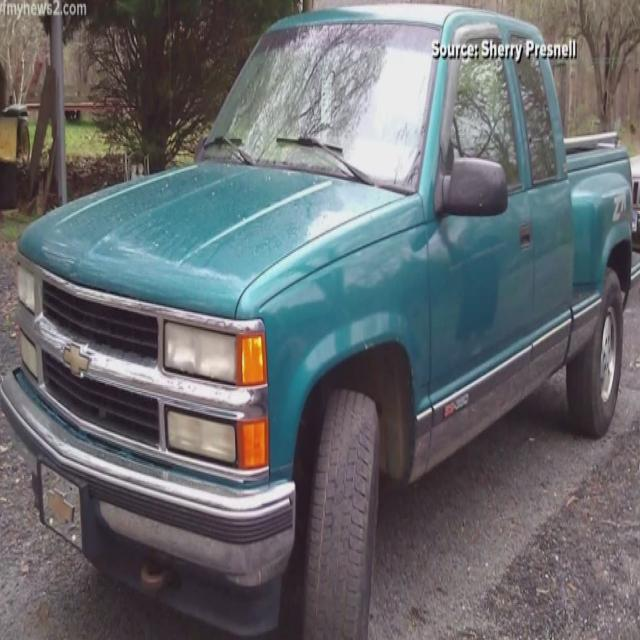green: (0, 7, 640, 640)
